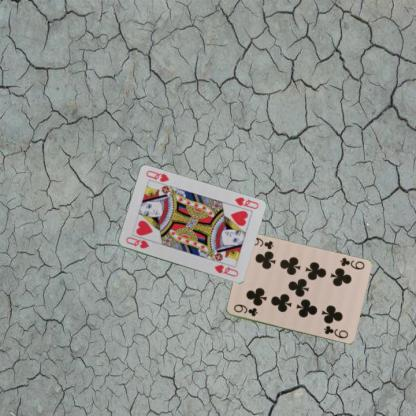9c: (337, 255, 366, 271), (231, 301, 258, 318)
Qh: (123, 234, 150, 250), (232, 195, 260, 210)
